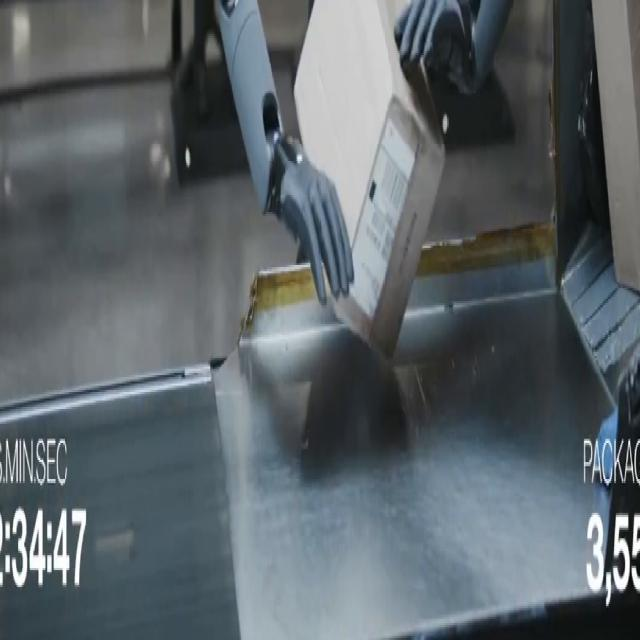package: (294, 0, 444, 358), (592, 0, 639, 290), (578, 3, 608, 226)
